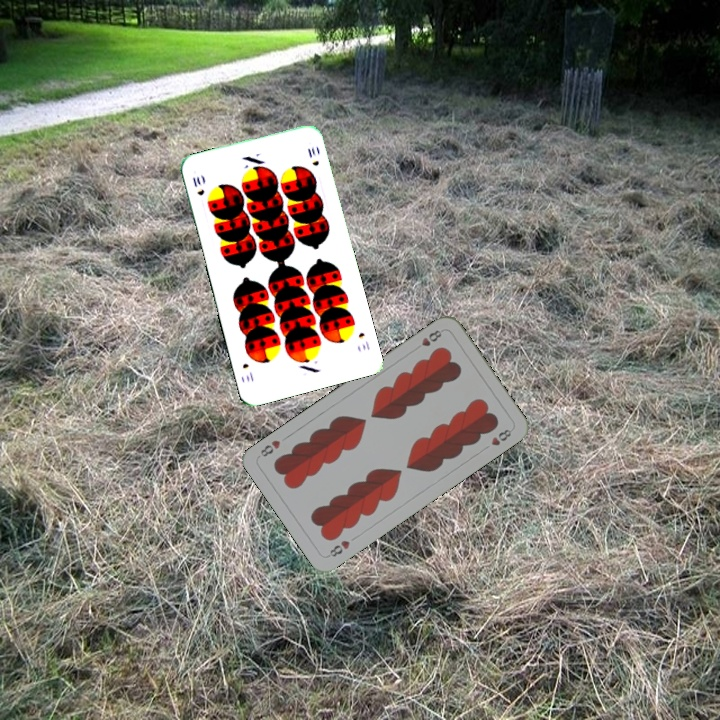H8: (410, 326, 444, 353), (324, 536, 353, 560)
S10: (188, 172, 207, 198), (354, 328, 372, 353)
